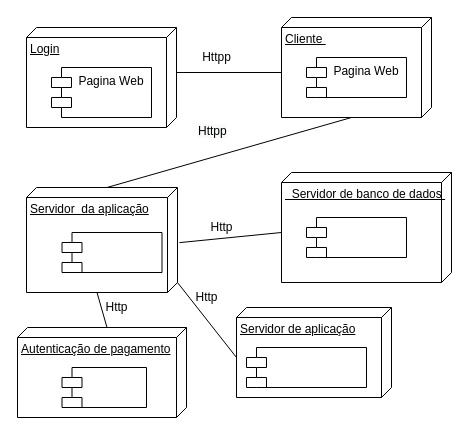
The diagram is 469 pixels wide and 435 high, and some of its shapes have lost their labels. The centre of each missing label's shape, as x and y in pixels:
"Eventos" belongs at [306,367].
"Pagamneto" belongs at [103,387].
"Servidor" belongs at [111,252].
"SGBD" belongs at [356,237].
